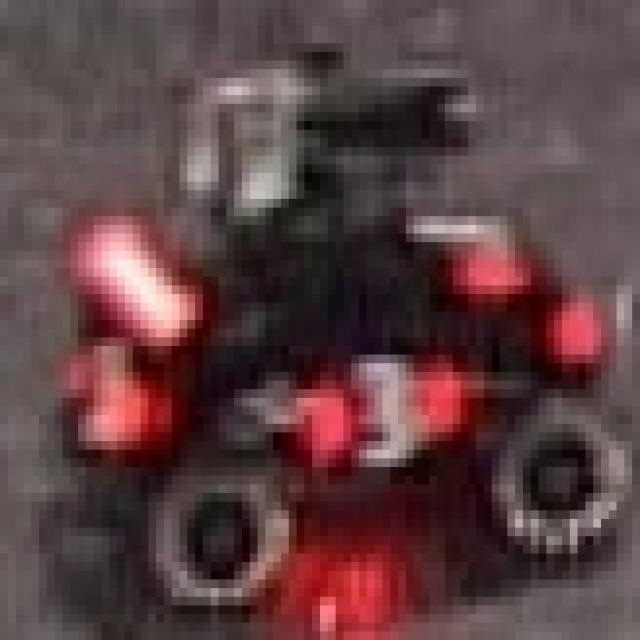R3: (296, 329, 484, 493)
